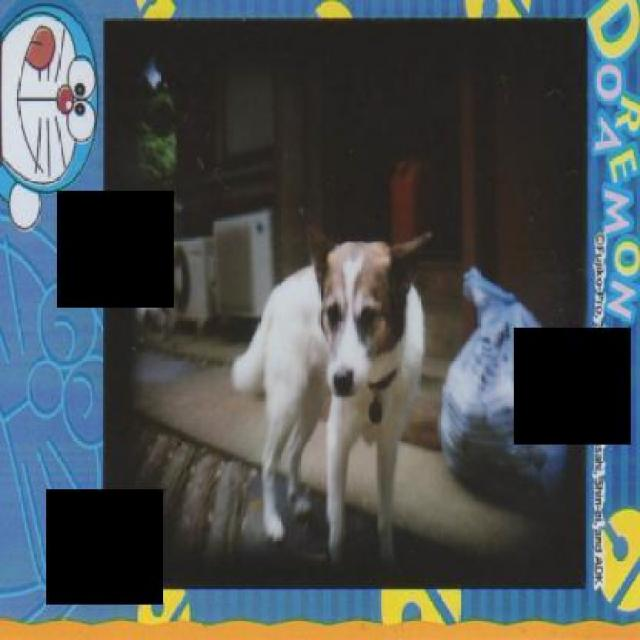plastic bag: (437, 264, 572, 508)
